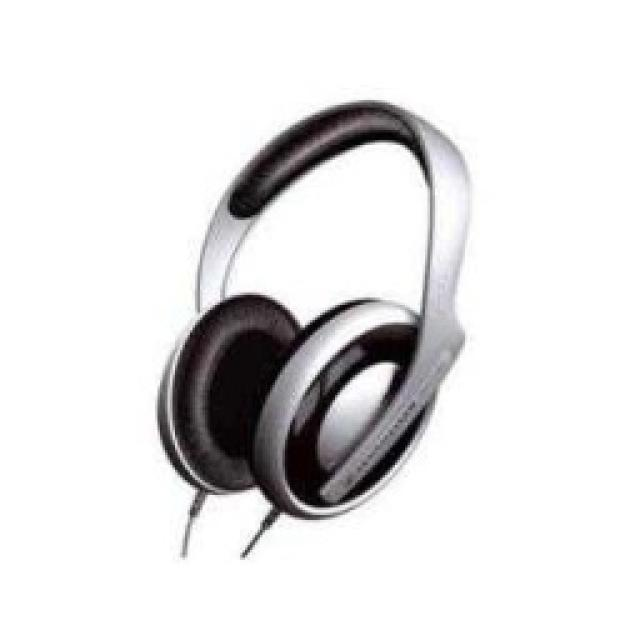headphones: (155, 95, 473, 550)
